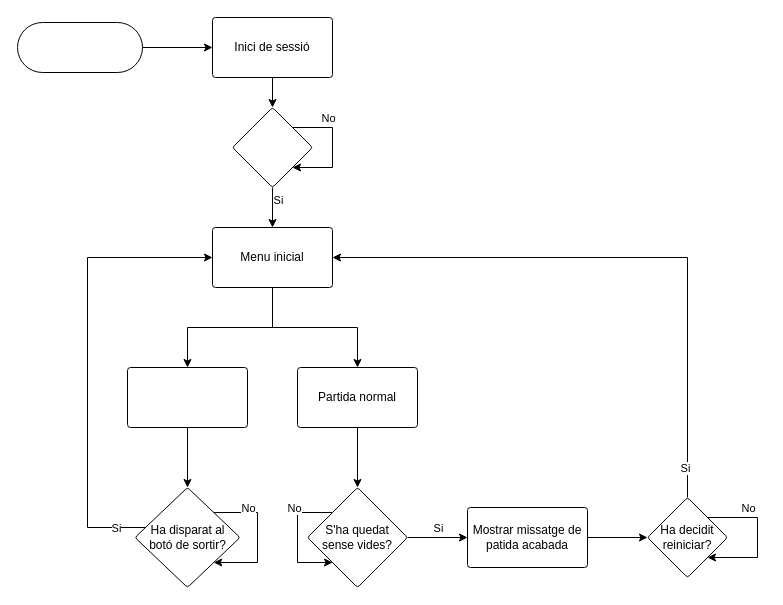
The diagram is 783 pixels wide and 605 high, and some of its shapes have lost their labels. Each missing label, with the centre of its shape:
Ha agafat l'arc?: point (272, 147)
Joc iniciat: point (79, 47)
Mode pràctica: point (187, 397)
